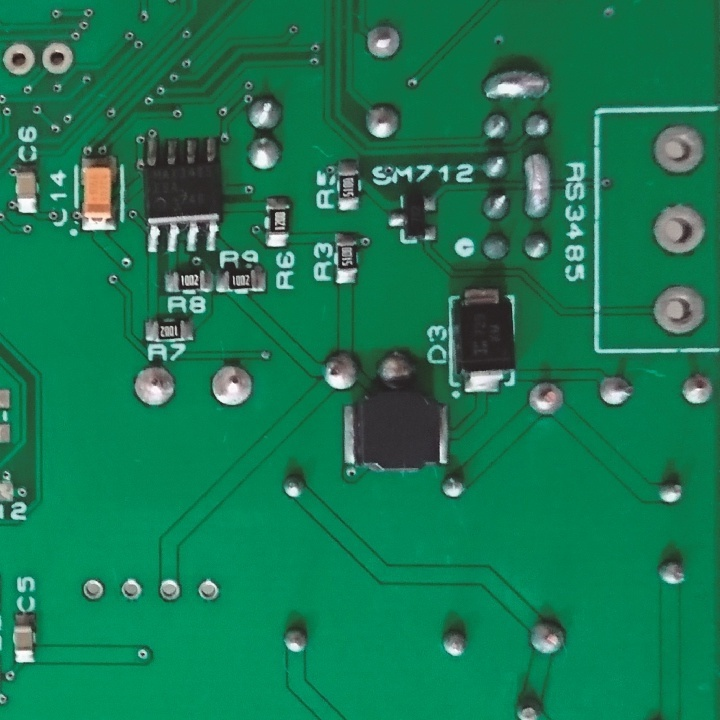F: (650, 200, 708, 256), (651, 280, 705, 340), (650, 123, 708, 177), (210, 360, 255, 412), (130, 365, 179, 411), (524, 378, 568, 421), (364, 20, 404, 62), (596, 371, 636, 406), (679, 369, 713, 409), (1, 42, 37, 79), (40, 39, 75, 76), (196, 575, 224, 608), (118, 575, 147, 603), (80, 575, 110, 602), (155, 578, 182, 606)
P: (479, 68, 555, 106), (521, 150, 553, 223)
